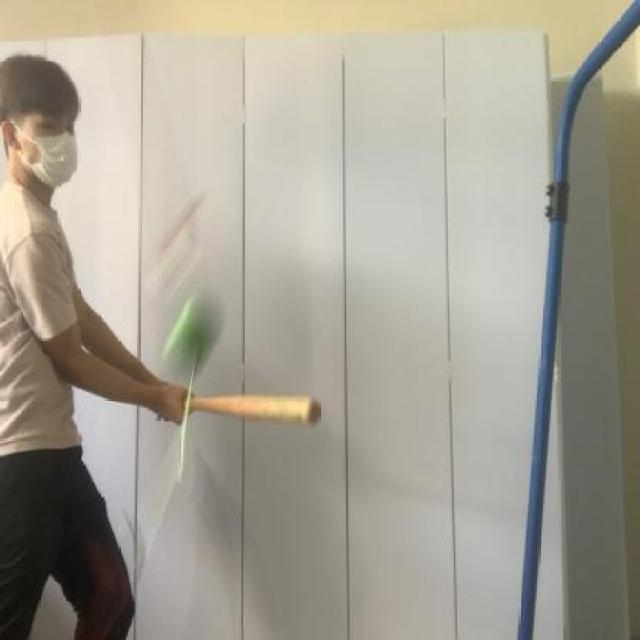baseball: (156, 280, 236, 392)
